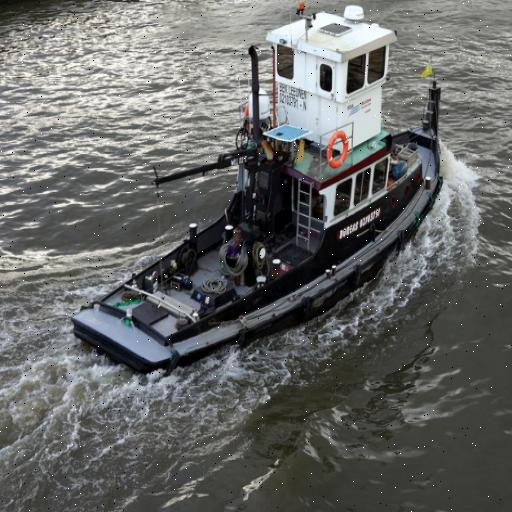tugboat: (69, 1, 449, 386)
